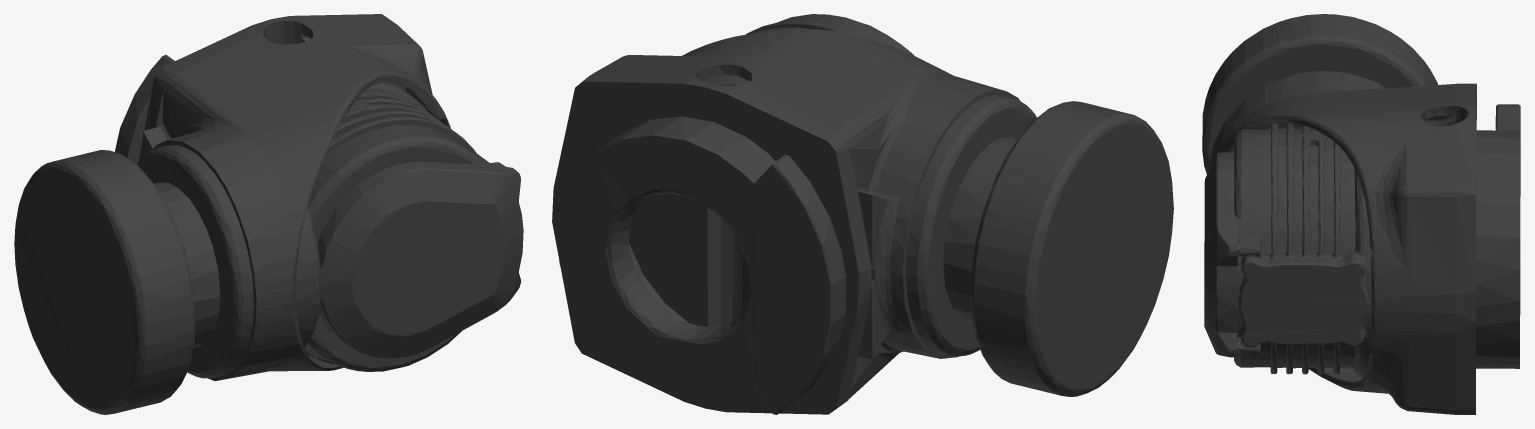
File: front_left_hip.dae
3 renders of one model, left to right at view 1: azimuth 30°, elevation 25°; view 2: azimuth 150°, elevation 25°; view 3: azimuth 270°, elevation 25°, orthographic. The views are drawn at different scales.
Parts seen in each view (by area): view 1: front_left_hip; view 2: front_left_hip; view 3: front_left_hip.
Part boxes in pixels (left/top/right/bottom): front_left_hip: left=14, top=14, right=523, bottom=414; front_left_hip: left=552, top=14, right=1173, bottom=414; front_left_hip: left=1202, top=14, right=1520, bottom=414.
Bounding box in the file's own units: 0.1417 × 0.1001 × 0.0941.
